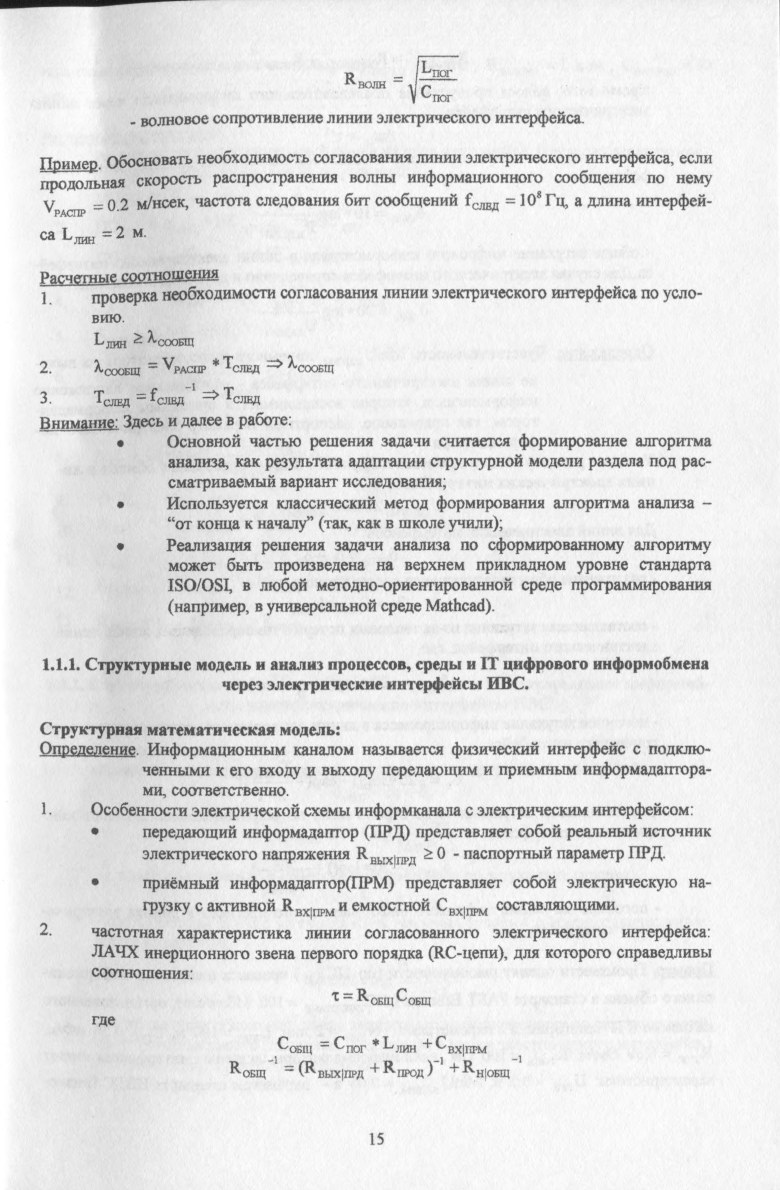C.вх.прм: (434, 1026, 490, 1059)
C.общ: (276, 1027, 314, 1055), (397, 982, 434, 1009)
C.пог: (420, 84, 456, 107), (329, 1030, 365, 1053)
L.лин: (383, 1032, 420, 1057)
L.пог: (420, 60, 455, 78)
R.волн: (339, 63, 389, 98)
R.вых.прд: (308, 1059, 364, 1079)
R.н.общ: (456, 1059, 511, 1080)
R.общ: (355, 982, 394, 1009), (226, 1062, 266, 1080)
R.прод: (384, 1059, 421, 1077)
T.след: (222, 351, 263, 374), (90, 391, 139, 410)
V.распр: (164, 349, 209, 380)
f.след: (149, 386, 185, 412)
group: (220, 1054, 527, 1086), (334, 52, 462, 108), (268, 1028, 494, 1057), (322, 982, 439, 1012)
λ.сообщ: (88, 356, 145, 380)
τ: (328, 987, 343, 1005)
